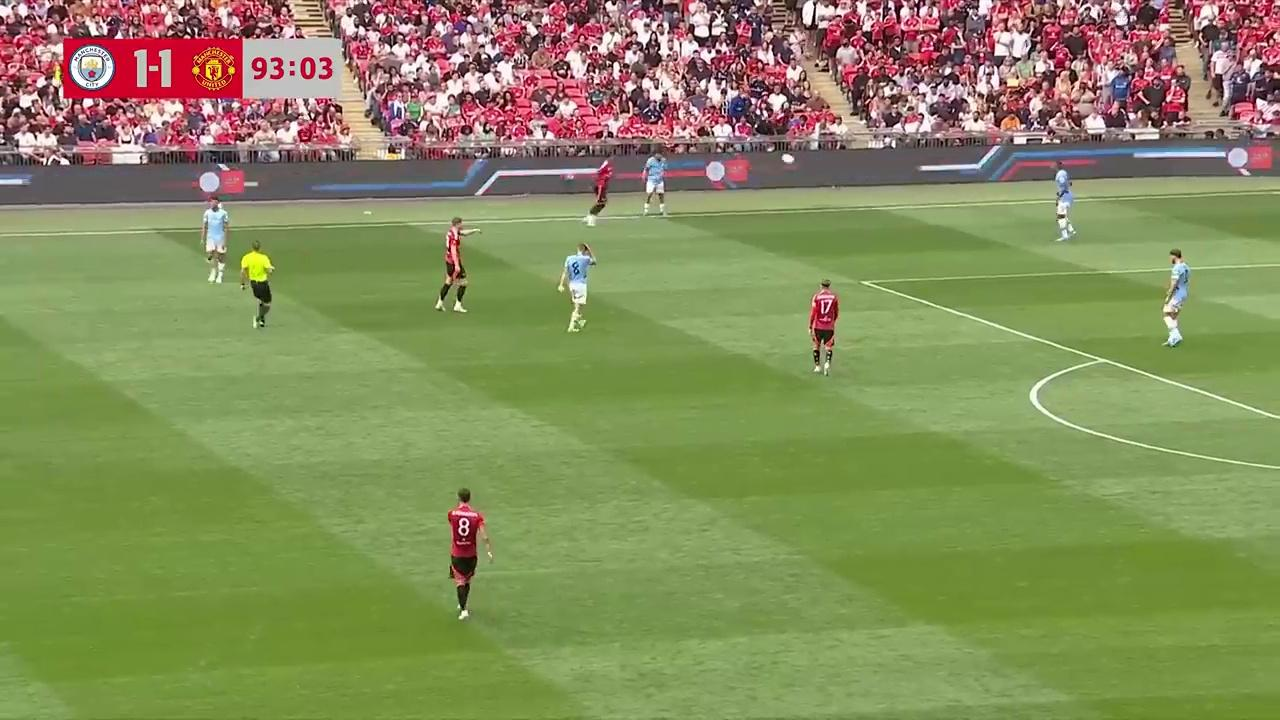player: (447, 489, 493, 620), (434, 218, 480, 314), (562, 242, 596, 332), (808, 279, 839, 374), (435, 225, 468, 313), (1161, 252, 1189, 347), (205, 200, 229, 283), (585, 165, 612, 225), (1054, 167, 1075, 240), (642, 163, 667, 216)
referee: (239, 239, 274, 328)
